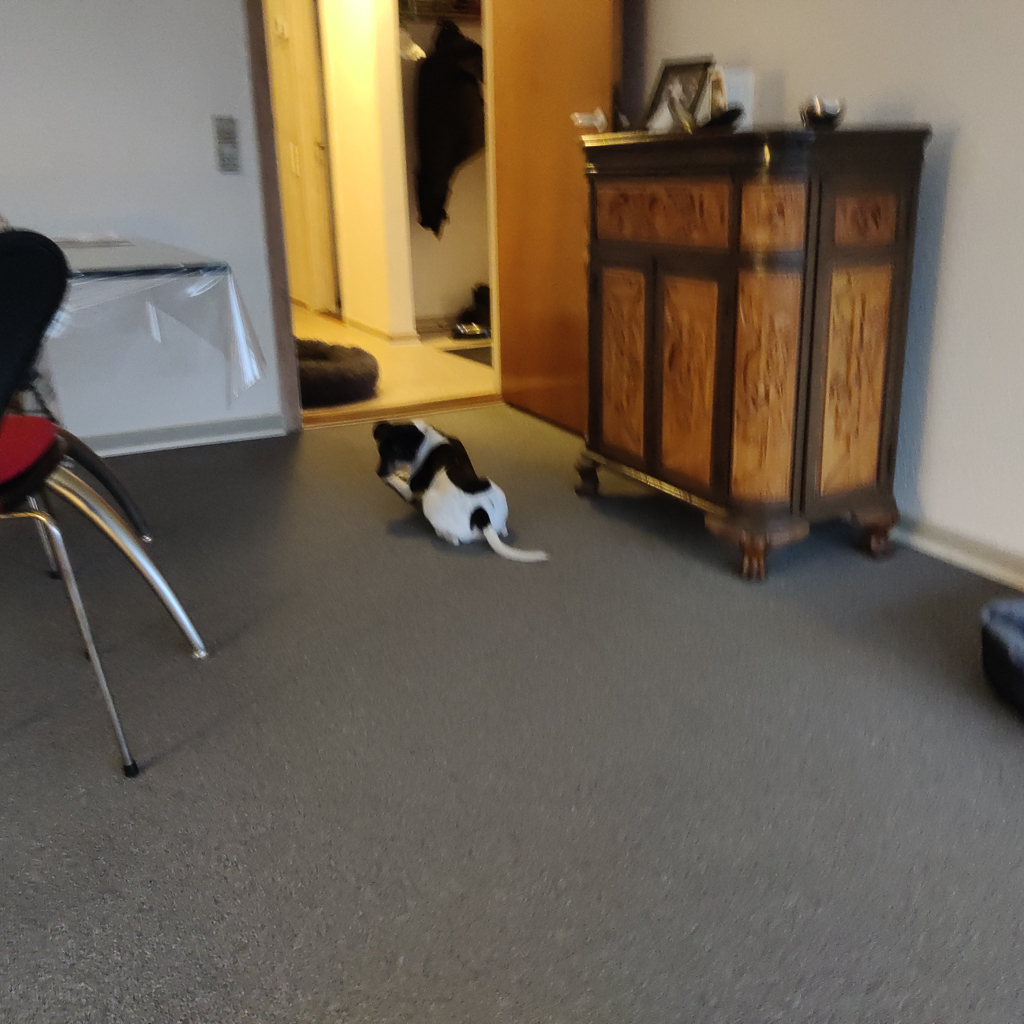Dog: (361, 415, 563, 573)
